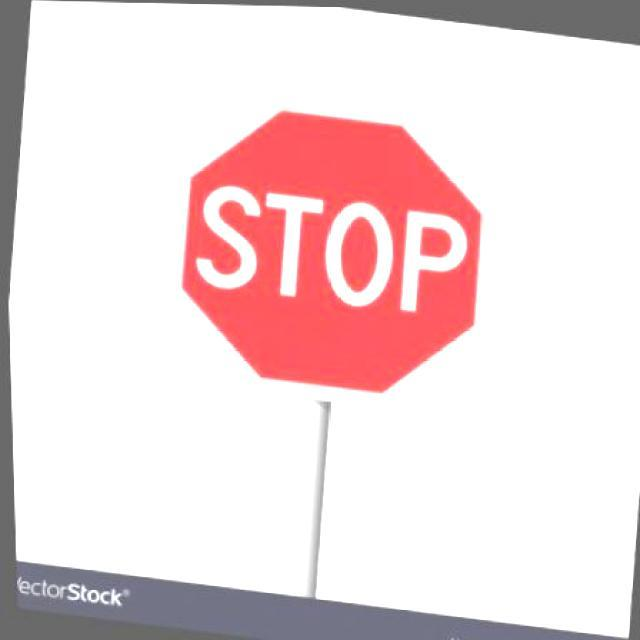stop_sign: (142, 73, 518, 420)
